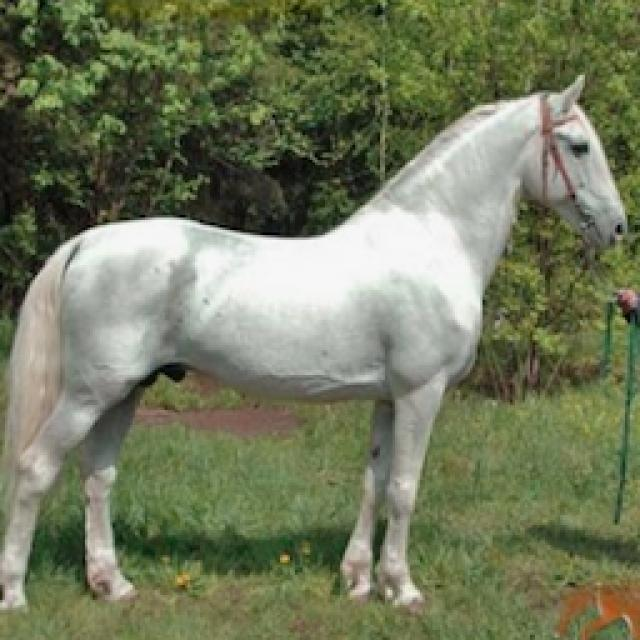Horse: (2, 68, 640, 620)
